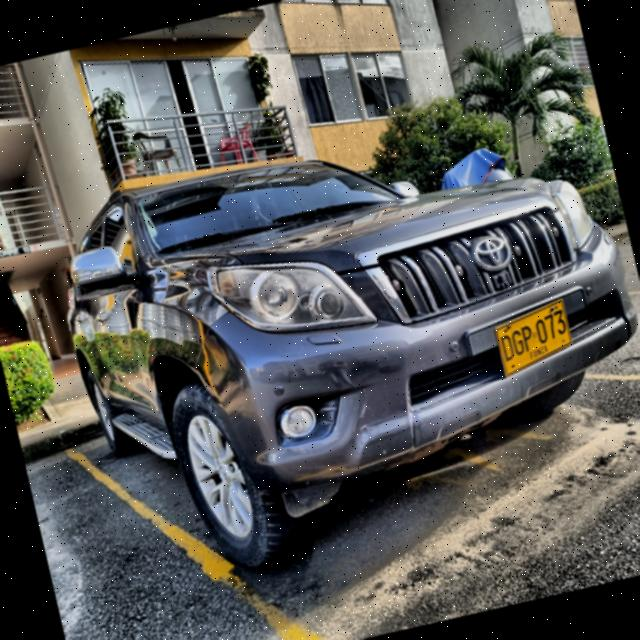plate: (496, 299, 571, 375)
